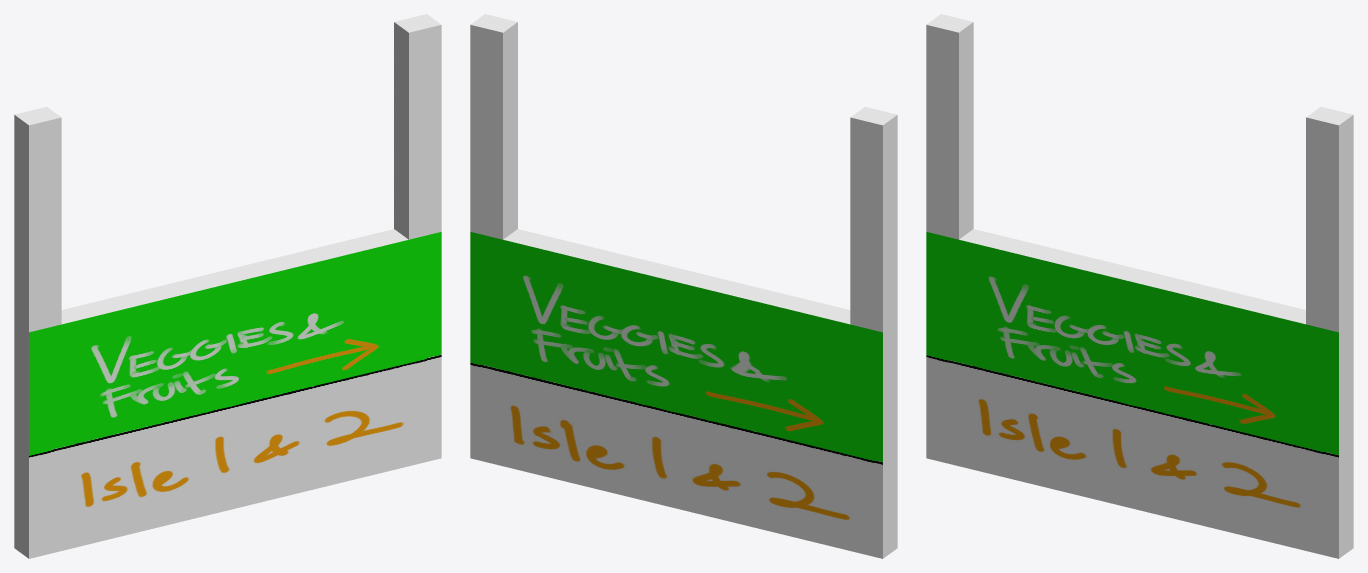
Rendered from IsleGuidance.fbx.
3 renders of one model, left to right at view 1: azimuth 30°, elevation 25°; view 2: azimuth 150°, elevation 25°; view 3: azimuth 330°, elevation 25°, orthographic.
Parts seen in each view (by area): view 1: Cube; view 2: Cube; view 3: Cube.
Boxes of the visible parts, <box> form: Cube: <box>14,14,441,558</box>; Cube: <box>470,14,897,558</box>; Cube: <box>926,14,1353,558</box>.
Bounding box in the file's own units: 381 × 383 × 23.53.
1 material, 1 textured.
